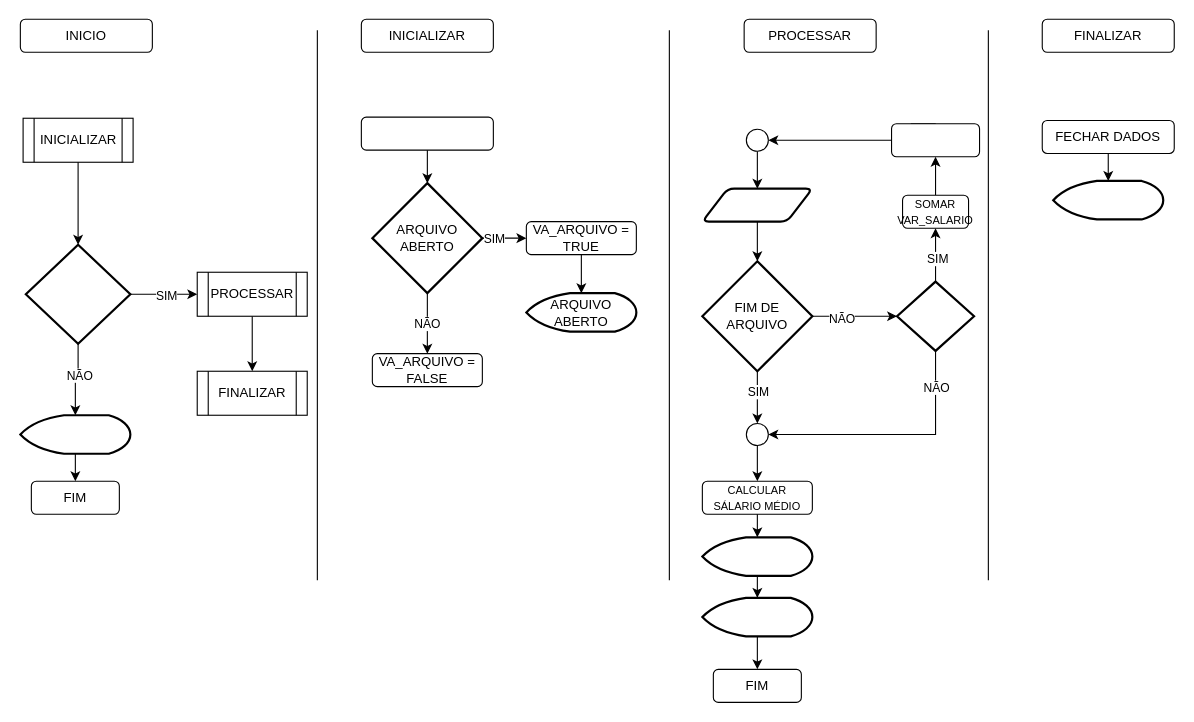
The diagram is 1194 pixels wide and 722 high, and some of its shapes have lost their labels. Each missing label, with the centre of its shape:
"ABRIR DADOS" goes at (x=426, y=133).
"ARQUIVO NÃO EXISTE" goes at (x=75, y=434).
"DADOS" goes at (x=757, y=204).
"DADOS FECHADOS" goes at (x=1108, y=199).
"VAR_ARQUIVO_EXISTE" goes at (x=77, y=293).
"VAR_CONTADOR + 1" goes at (x=935, y=140).
"VAR_LINHA != 0" goes at (x=935, y=315).
"VAR_SALARIO" goes at (x=757, y=556).
"VAR_SALARIO_MEDIO" goes at (x=757, y=616).
